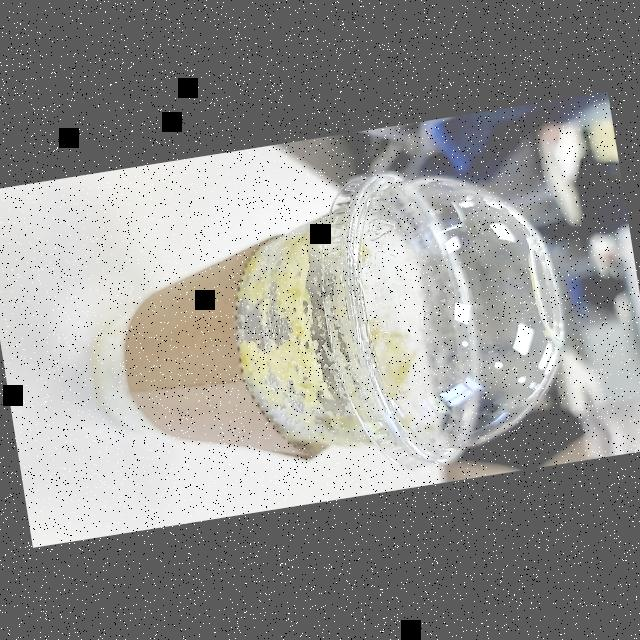plastic_cup: (68, 144, 584, 516)
plastic_cup_lid: (302, 148, 582, 480)
